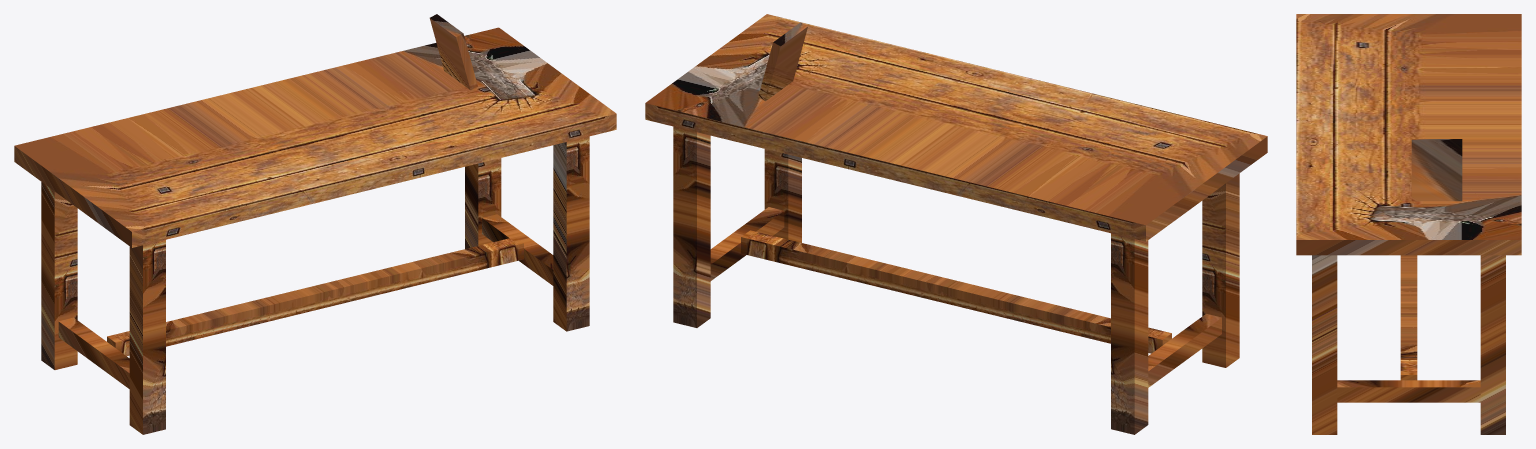
The model's file is v3-kitchen-work-table.glb.
The picture shows the model from 3 angles, left to right: view 1: azimuth 30°, elevation 25°; view 2: azimuth 150°, elevation 25°; view 3: azimuth 270°, elevation 25°; orthographic projection. The views are drawn at different scales.
Parts seen in each view (by area): view 1: v3-kitchen-work-table; view 2: v3-kitchen-work-table; view 3: v3-kitchen-work-table.
Part boxes in pixels (box(x1,y1,x2,y2)): v3-kitchen-work-table: box(14, 14, 616, 434); v3-kitchen-work-table: box(645, 14, 1267, 434); v3-kitchen-work-table: box(1296, 14, 1521, 434).
Bounding box in the file's own units: 1.9 × 1.02 × 0.8.
Materials: 1 (1 with a texture image).
